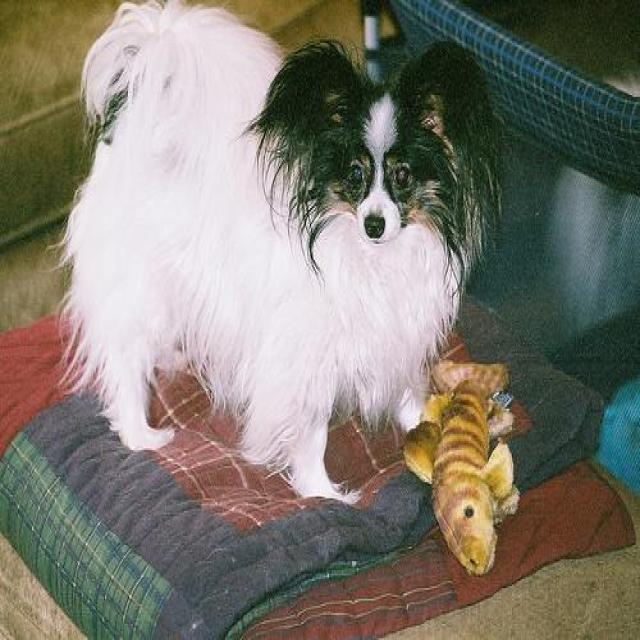papillon: (62, 4, 504, 504)
